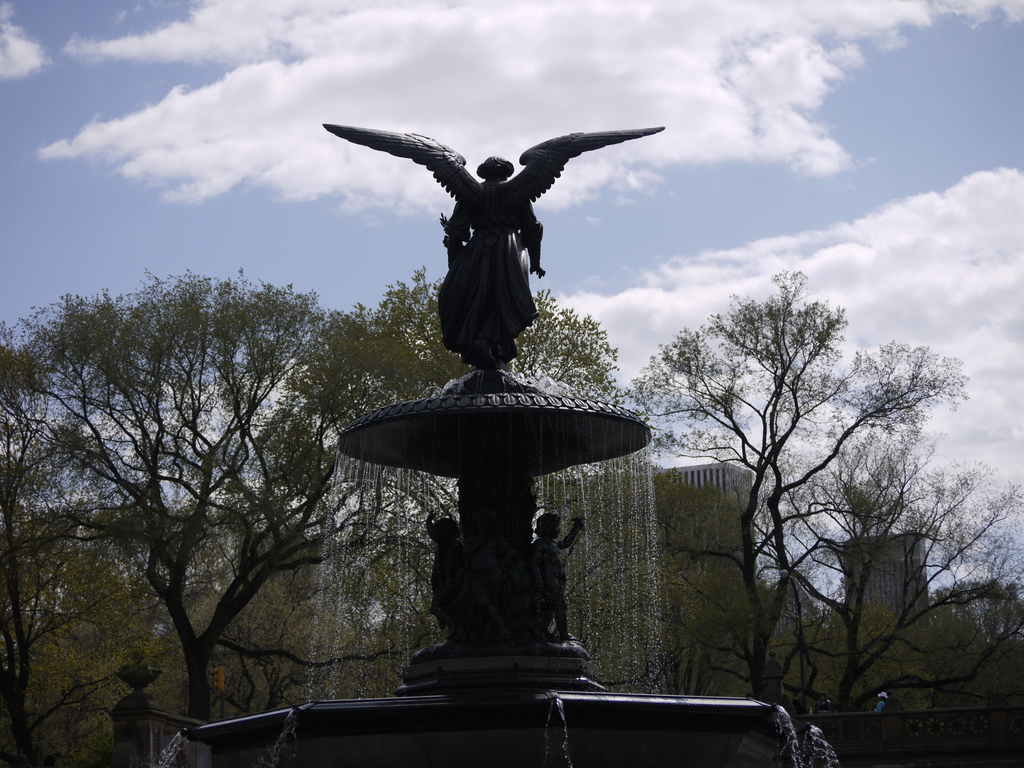Tree: (627, 268, 1023, 713), (45, 234, 375, 743), (275, 263, 668, 689)
